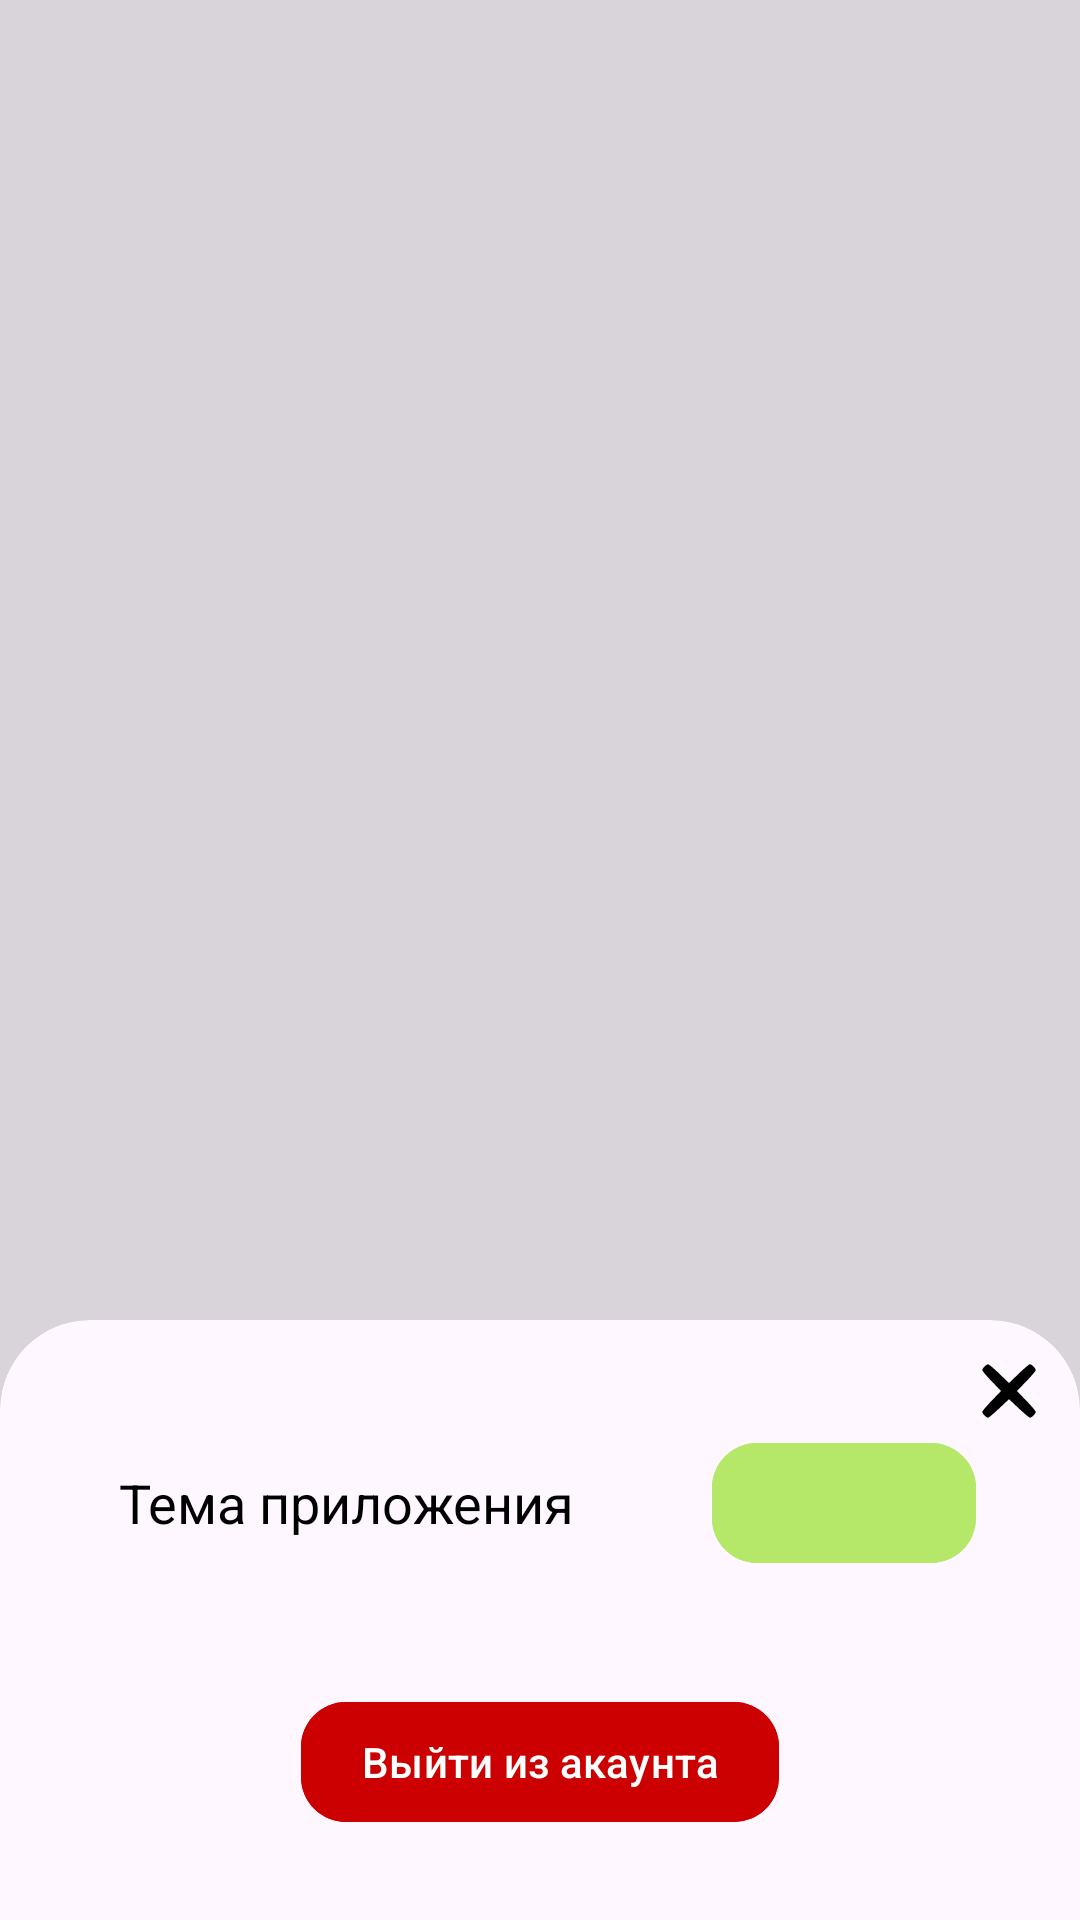

Where to tap for icons on this 1080x1920 app screen, as (x=x, y=y):
Иконка закрыть: (x=1009, y=1391)
